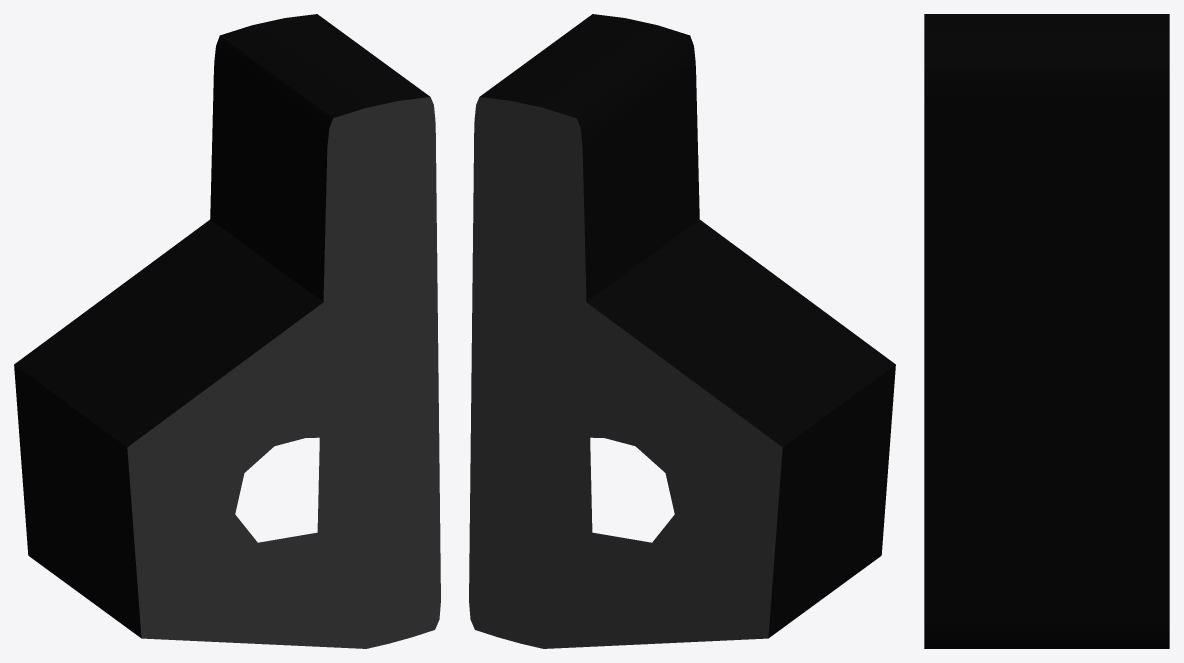
3 renders of one model, left to right at view 1: azimuth 30°, elevation 25°; view 2: azimuth 150°, elevation 25°; view 3: azimuth 270°, elevation 25°, orthographic. The views are drawn at different scales.
Visible parts, largest first — view 1: d_Zyzol_Black; view 2: d_Zyzol_Black; view 3: d_Zyzol_Black.
Boxes of the visible parts, <box> form: d_Zyzol_Black: <box>14,14,440,648</box>; d_Zyzol_Black: <box>469,14,895,648</box>; d_Zyzol_Black: <box>924,14,1169,648</box>.
Size of what is drawn, in the model's own units: 0.0719 by 0.1186 by 0.045.
2 materials, 2 textured.
